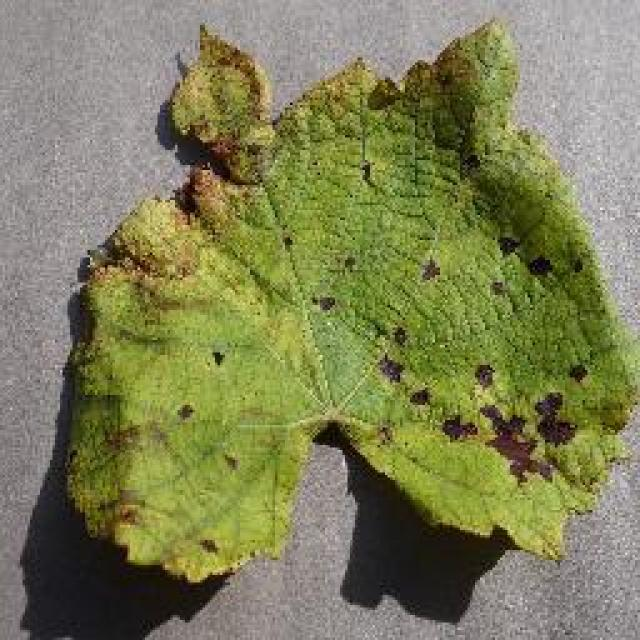Blight Fungus: (51, 19, 635, 597)
